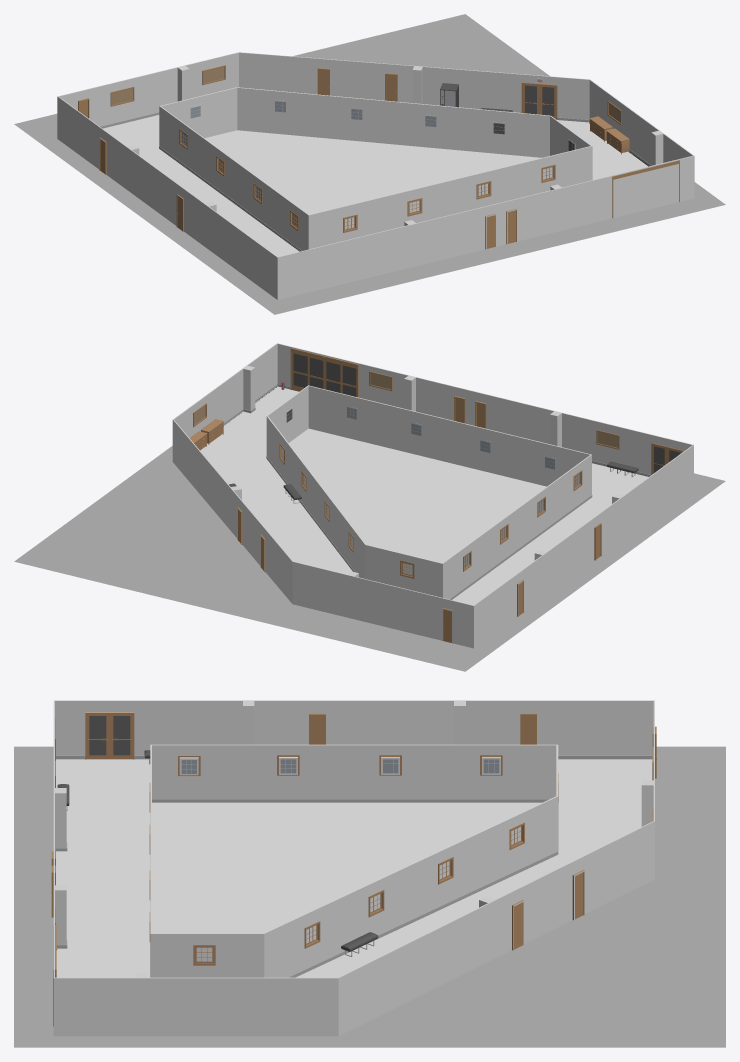
Rendered from indoor_slope_walls.dae.
The picture shows the model from 3 angles, top to bottom: view 1: azimuth 30°, elevation 25°; view 2: azimuth 150°, elevation 25°; view 3: azimuth 270°, elevation 25°; orthographic projection. The views are drawn at different scales.
Parts seen in each view (by area): view 1: Camera, Componen16, Componen12; view 2: Camera, panel2, panel3, panel1; view 3: Camera, Componen04, Component_.
Boxes of the visible parts, box(x1,y1,x2,y2) form: Camera: box(14, 14, 725, 314); Componen16: box(540, 85, 556, 119); Componen12: box(522, 83, 538, 114); Camera: box(14, 343, 725, 671); panel2: box(292, 352, 307, 391); panel3: box(324, 360, 342, 393); panel1: box(307, 356, 324, 389); Camera: box(14, 700, 725, 1047); Componen04: box(110, 713, 133, 759); Component_: box(86, 713, 109, 759).
Bounding box in the file's own units: 3 × 3 × 0.2703.
